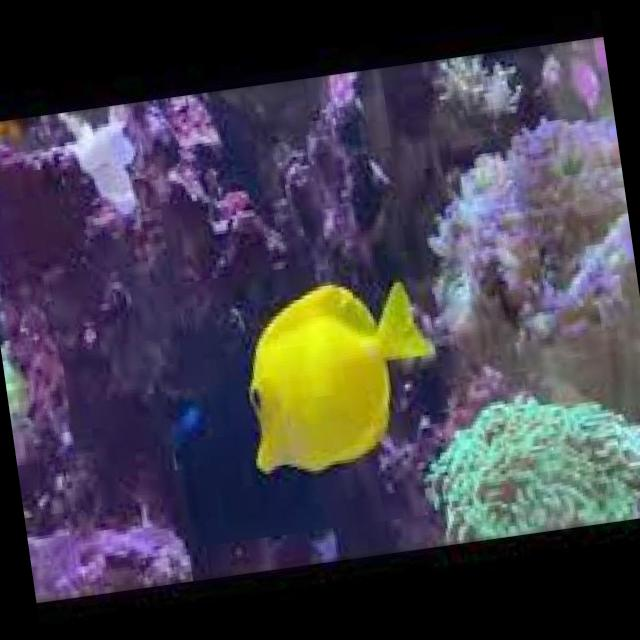YellowTang: (217, 256, 452, 500)
